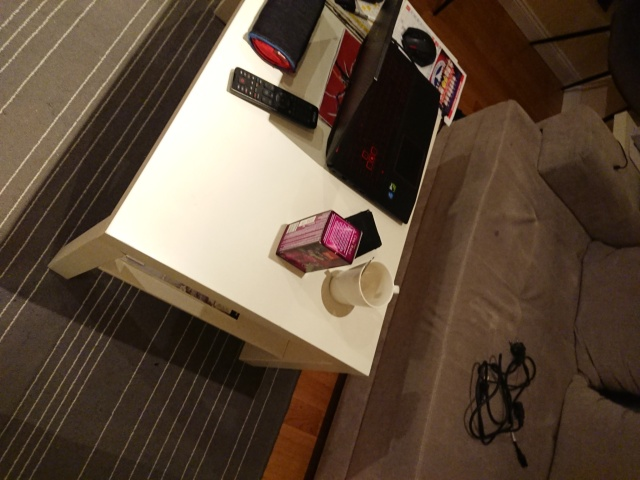Franck Black Currant Tea 60g: (274, 207, 365, 275)
